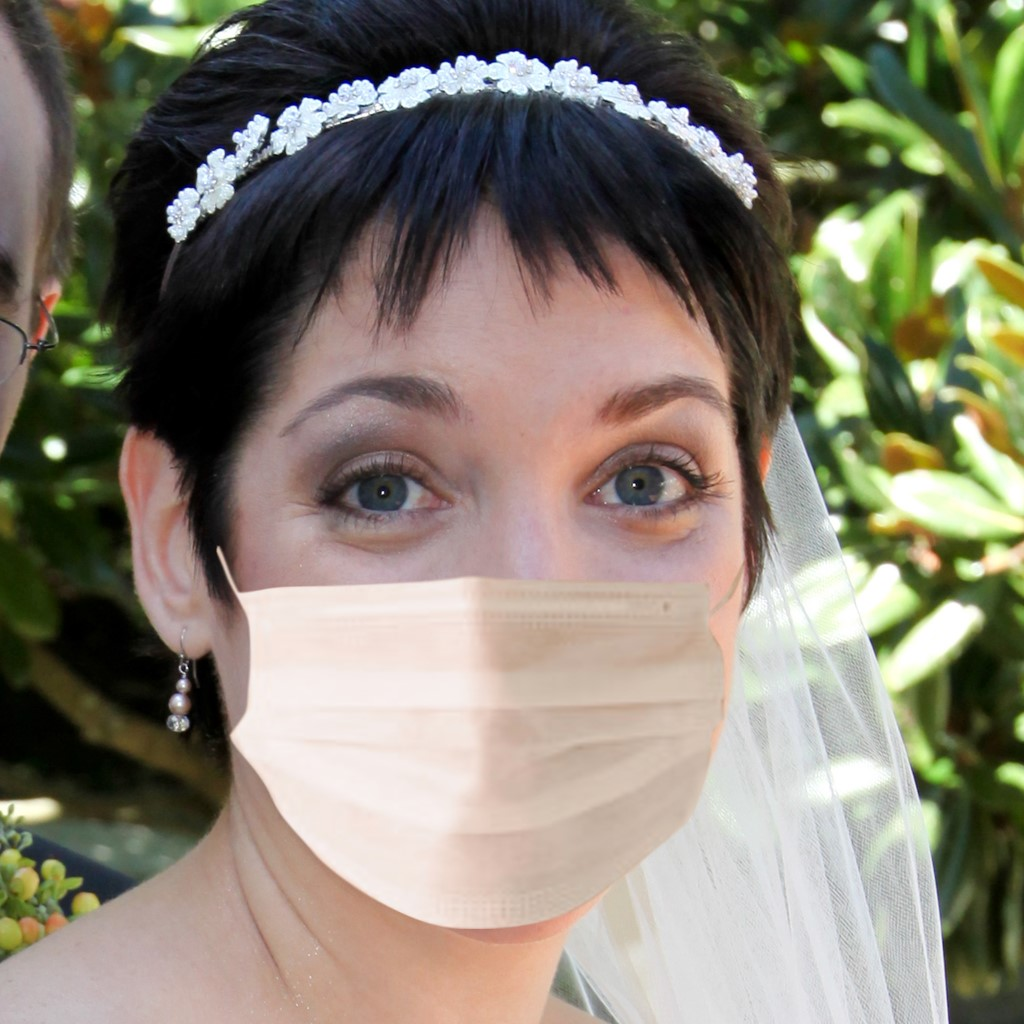con_mascara: (151, 140, 750, 932)
